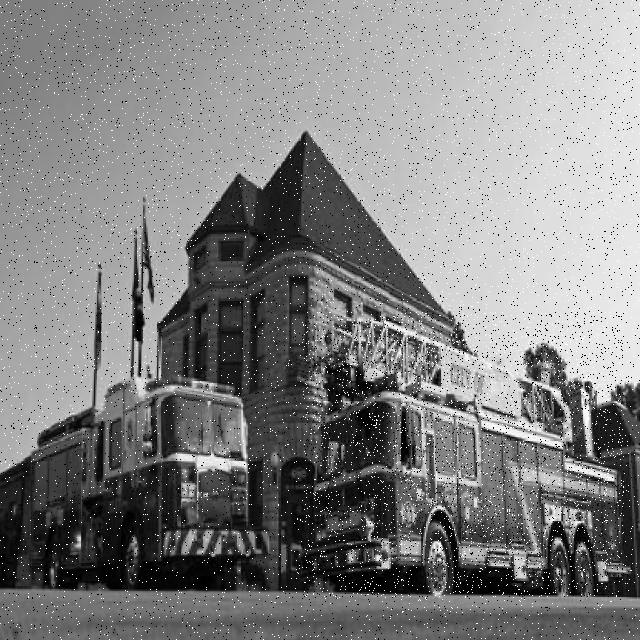Fire Truck: (303, 312, 624, 597), (22, 376, 270, 591)
